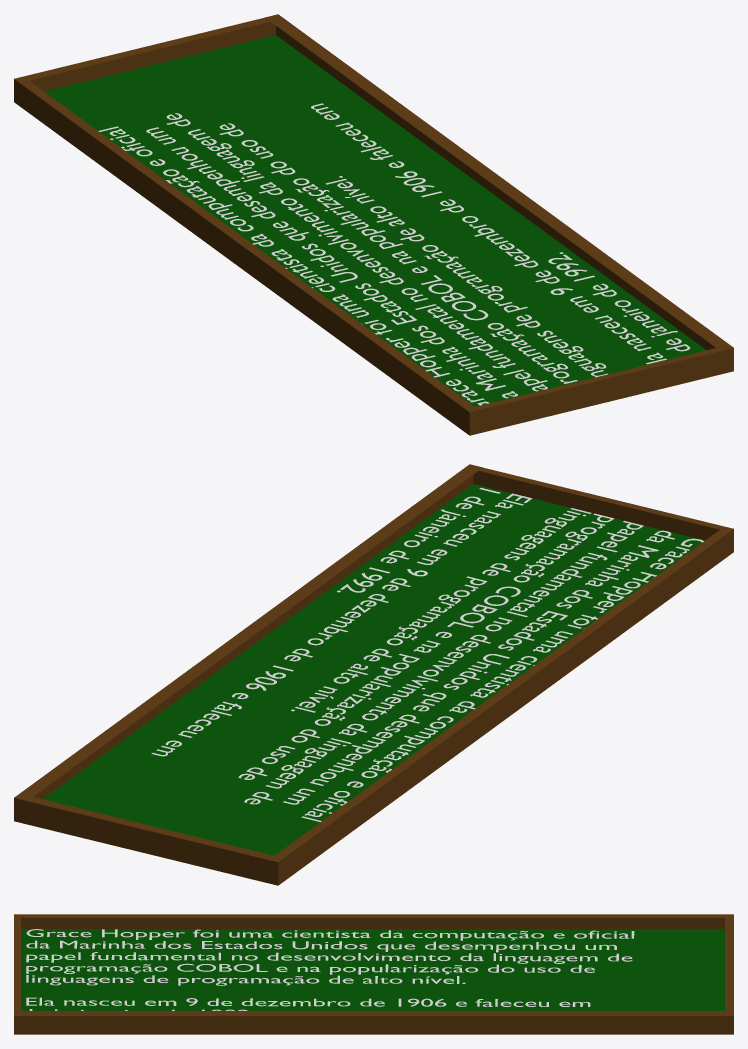
File: Grace1.fbx
The picture shows the model from 3 angles, top to bottom: view 1: azimuth 30°, elevation 25°; view 2: azimuth 150°, elevation 25°; view 3: azimuth 270°, elevation 25°; orthographic projection. The views are drawn at different scales.
Visible parts, largest first — view 1: Cube, Text; view 2: Cube, Text; view 3: Cube, Text.
Boxes of the visible parts, x1,y1,x2,y2 form: Cube: (14,14,733,435); Text: (98,103,689,405); Cube: (14,464,733,885); Text: (151,488,703,821); Cube: (14,914,733,1034); Text: (26,929,634,1010).
Bounding box in the file's own units: 624 × 53.07 × 1865.
